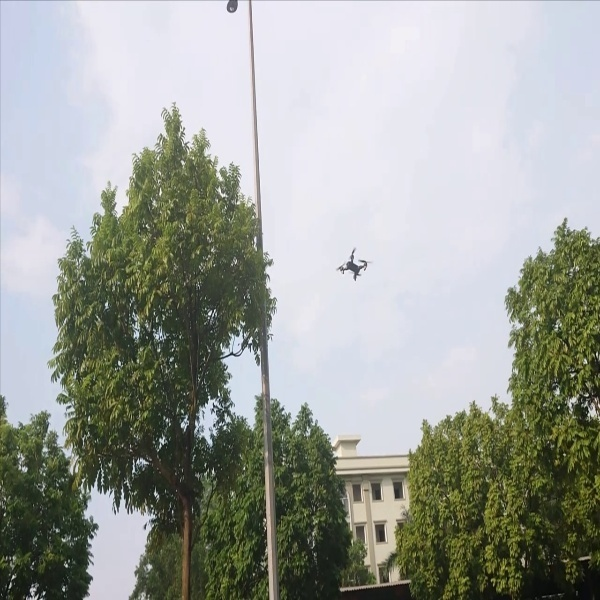drone: (324, 245, 382, 284)
